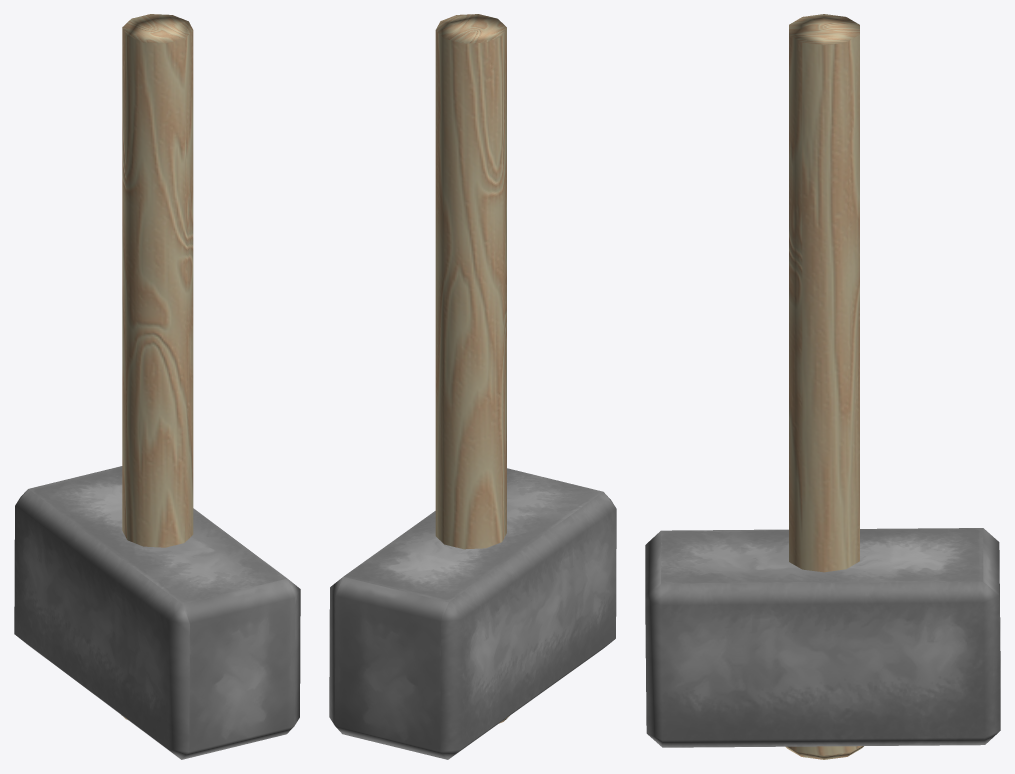
File: Hammer.fbx
3 views of the same model, side by side, from view 1: azimuth 30°, elevation 25°; view 2: azimuth 150°, elevation 25°; view 3: azimuth 270°, elevation 25° (orthographic). The views are drawn at different scales.
Visible parts, largest first — view 1: Hammer:Hammer2; view 2: Hammer:Hammer2; view 3: Hammer:Hammer2.
Boxes of the visible parts, x1,y1,x2,y2 form: Hammer:Hammer2: (14,14,300,759); Hammer:Hammer2: (329,14,616,759); Hammer:Hammer2: (645,14,1000,759).
Bounding box in the file's own units: 97.3 × 483 × 218.
